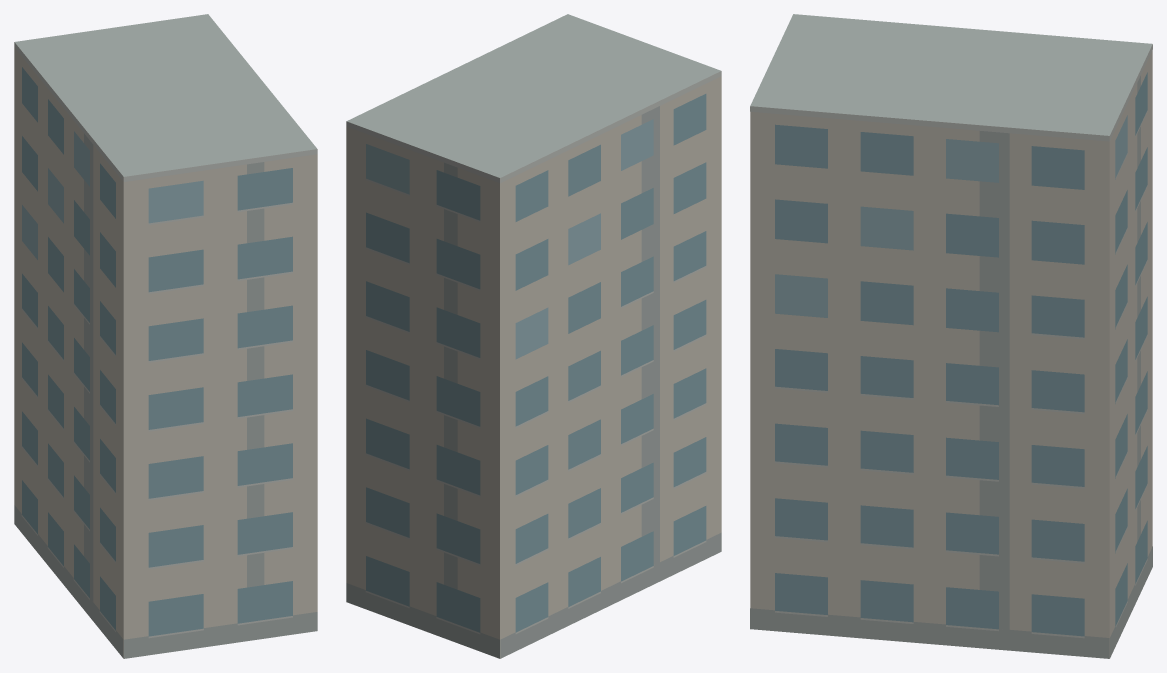
File: survey-upis-32786444.glb
The picture shows the model from 3 angles, left to right: view 1: azimuth 30°, elevation 25°; view 2: azimuth 150°, elevation 25°; view 3: azimuth 270°, elevation 25°; orthographic projection. The views are drawn at different scales.
Parts seen in each view (by area): view 1: survey-upis-32786444.tmp; view 2: survey-upis-32786444.tmp; view 3: survey-upis-32786444.tmp.
Boxes of the visible parts, bbox=[...] form: survey-upis-32786444.tmp: bbox=[14, 14, 317, 658]; survey-upis-32786444.tmp: bbox=[346, 14, 721, 658]; survey-upis-32786444.tmp: bbox=[750, 14, 1152, 658].
Size of the model in its own units: 11.31 by 22.6 by 15.78.
